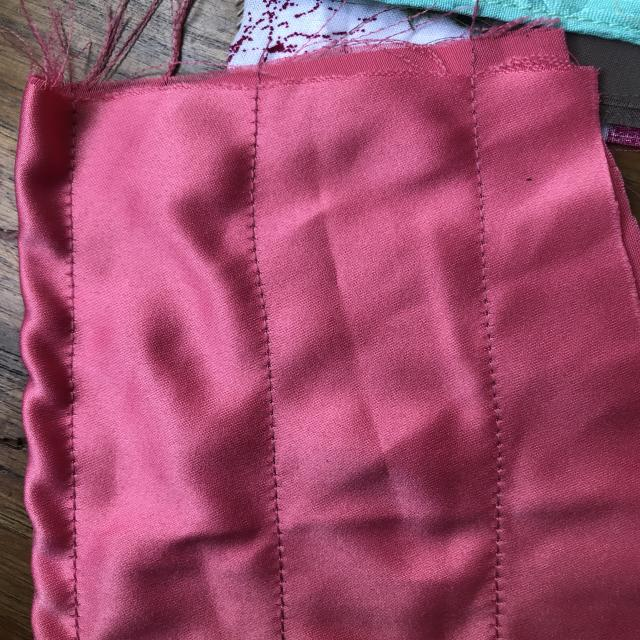good: (248, 285, 302, 484)
